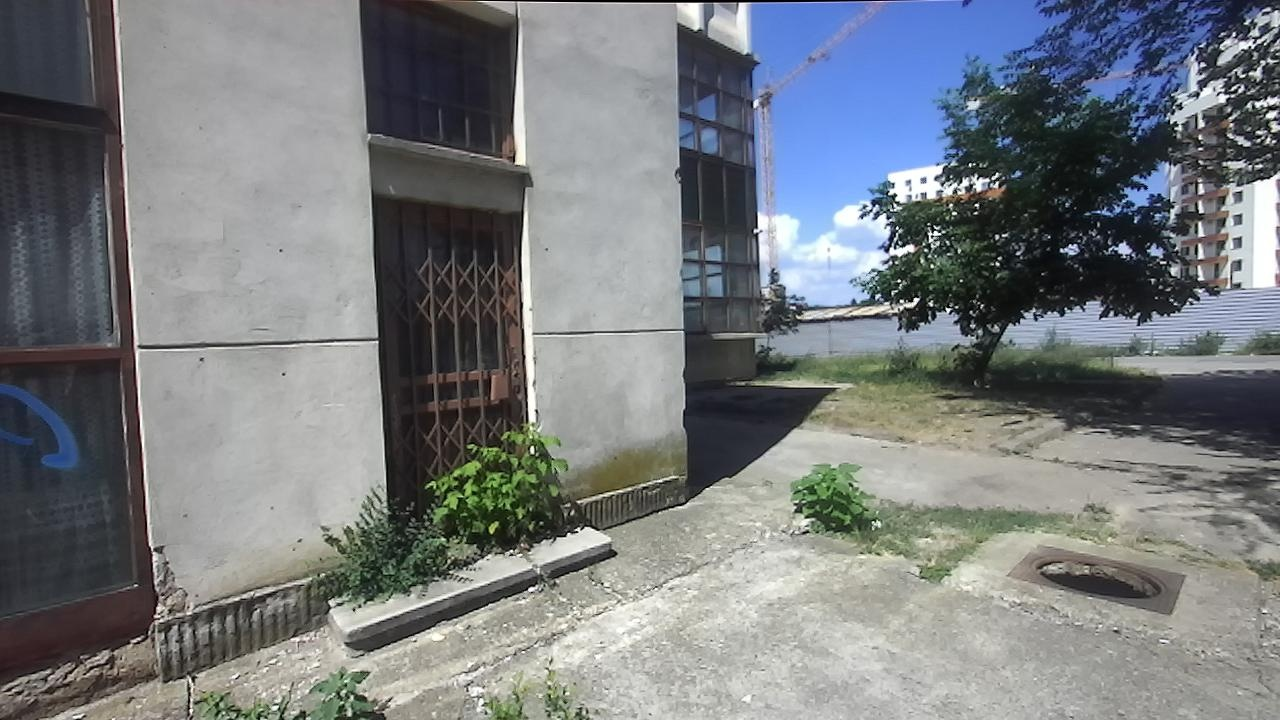drain: (1023, 552, 1162, 607)
